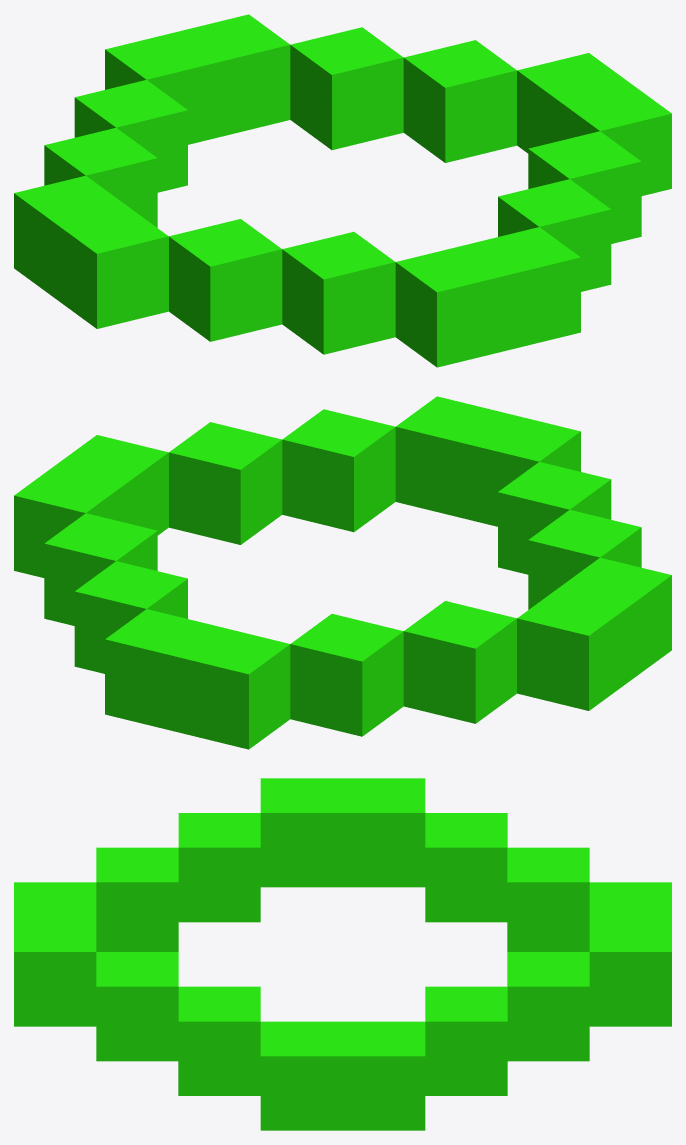
3 renders of one model, top to bottom at view 1: azimuth 30°, elevation 25°; view 2: azimuth 150°, elevation 25°; view 3: azimuth 270°, elevation 25°, orthographic.
Visible parts, largest first — view 1: Cube; view 2: Cube; view 3: Cube.
Boxes of the visible parts, <box> form: Cube: <box>14,14,671,367</box>; Cube: <box>14,396,671,749</box>; Cube: <box>14,778,671,1130</box>.
Size of the model in its own units: 1600 by 200 by 1600.
Materials: 1 (1 with a texture image).
